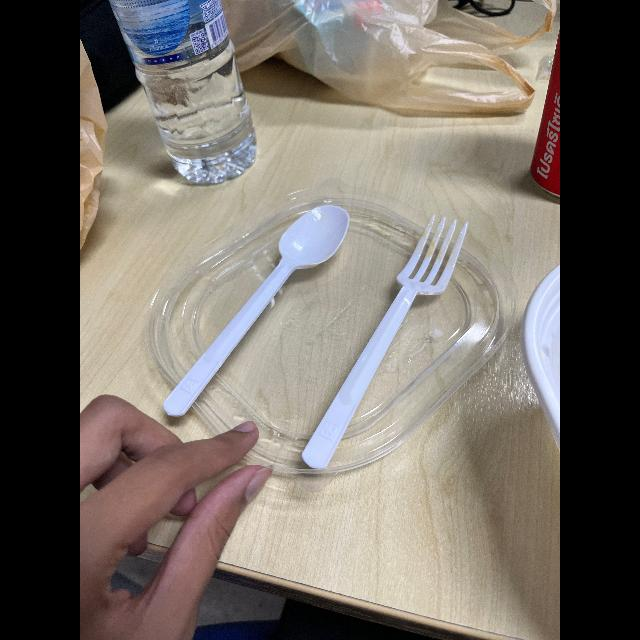plastic_cultery: (288, 210, 478, 474), (160, 196, 358, 422)
